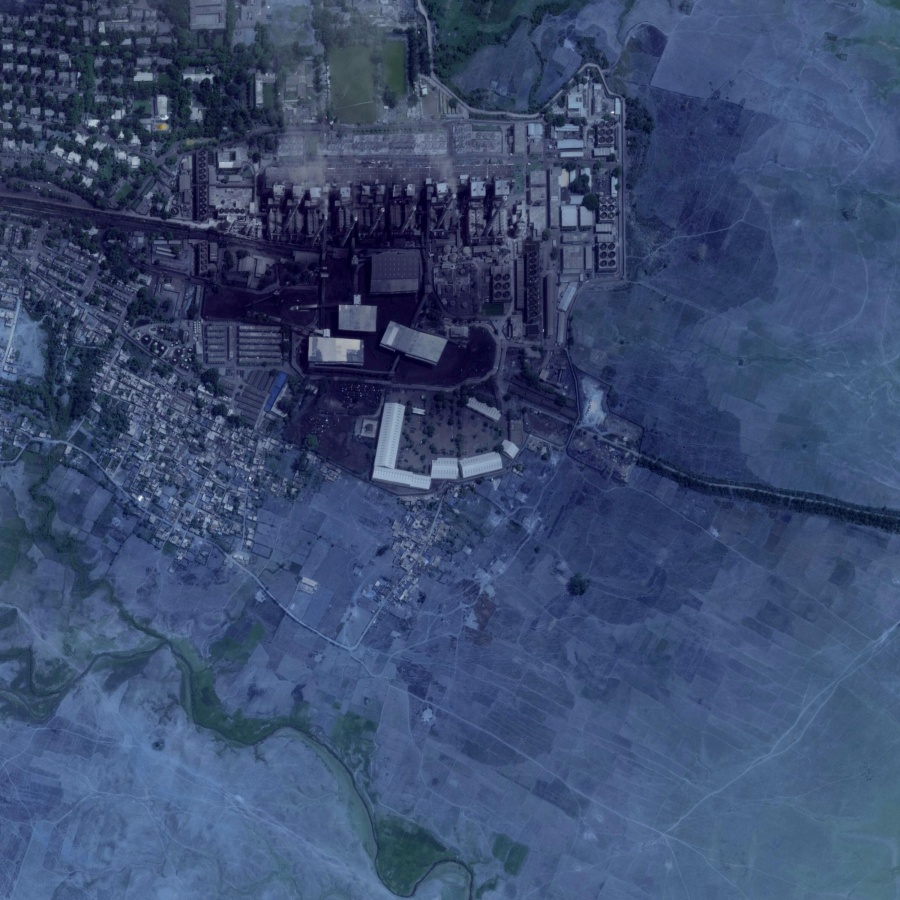PowerPlant: (203, 45, 626, 395)
